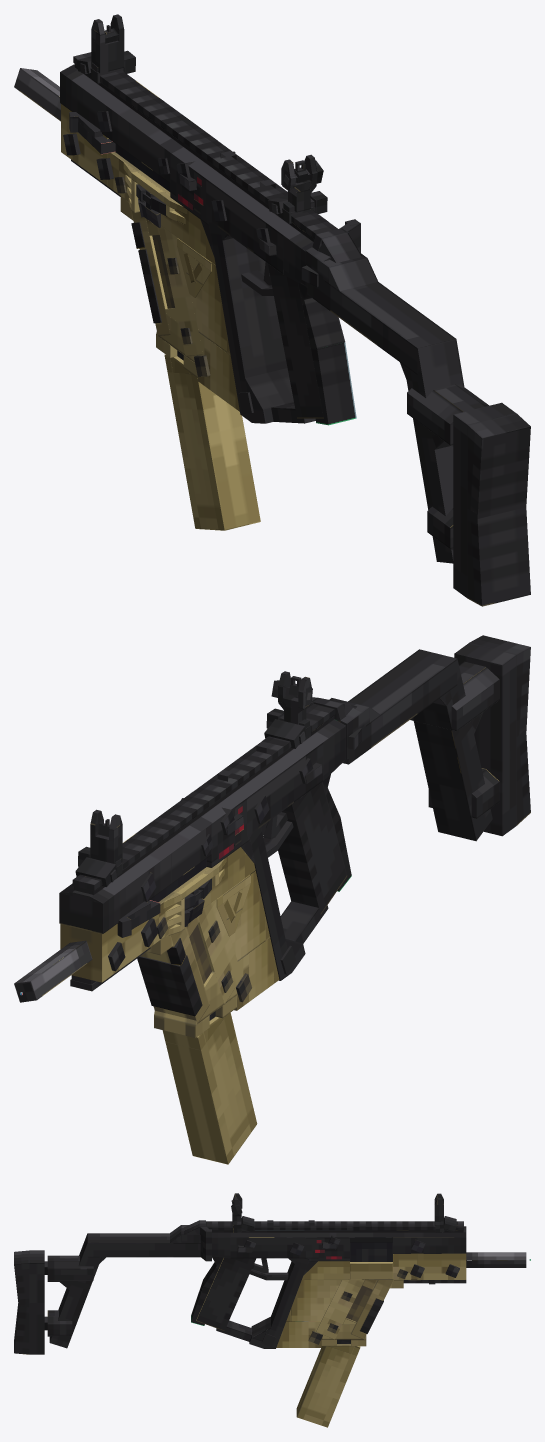
The model's file is vercot.obj.
3 renders of one model, top to bottom at view 1: azimuth 30°, elevation 25°; view 2: azimuth 150°, elevation 25°; view 3: azimuth 270°, elevation 25°, orthographic. The views are drawn at different scales.
Parts seen in each view (by area): view 1: gun_141, magazine_4, frontsight_12, rearsight_21; view 2: gun_141, magazine_4, frontsight_12, rearsight_21; view 3: gun_141, magazine_4, action_1, rearsight_21.
Boxes of the visible parts, bbox=[...] form: gun_141: bbox=[14, 50, 530, 606]; magazine_4: bbox=[164, 350, 260, 530]; frontsight_12: bbox=[91, 14, 124, 73]; rearsight_21: bbox=[281, 154, 323, 212]; gun_141: bbox=[14, 635, 530, 1037]; magazine_4: bbox=[162, 1011, 257, 1164]; frontsight_12: bbox=[90, 809, 122, 863]; rearsight_21: bbox=[271, 671, 312, 724]; gun_141: bbox=[14, 1216, 526, 1354]; magazine_4: bbox=[296, 1339, 360, 1427]; action_1: bbox=[350, 1237, 392, 1261]; rearsight_21: bbox=[231, 1193, 242, 1224].
Size of the model in its own units: 0.3951 by 2.55 by 5.27.
